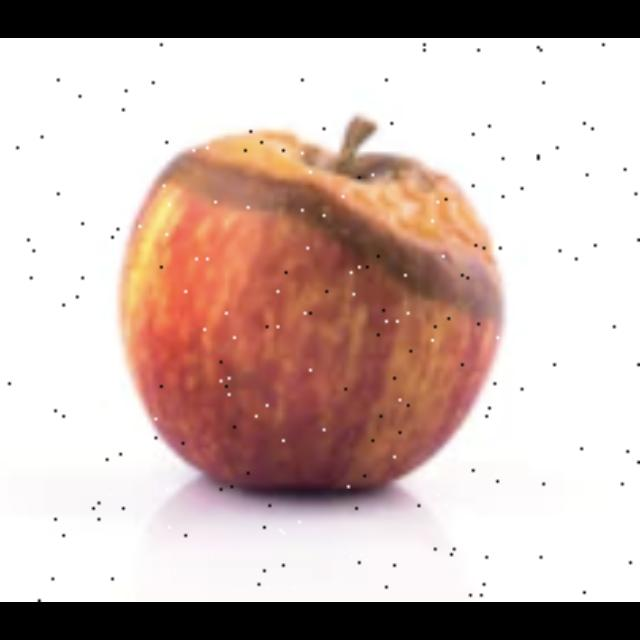Apel Tidak Segar: (79, 84, 557, 520)
